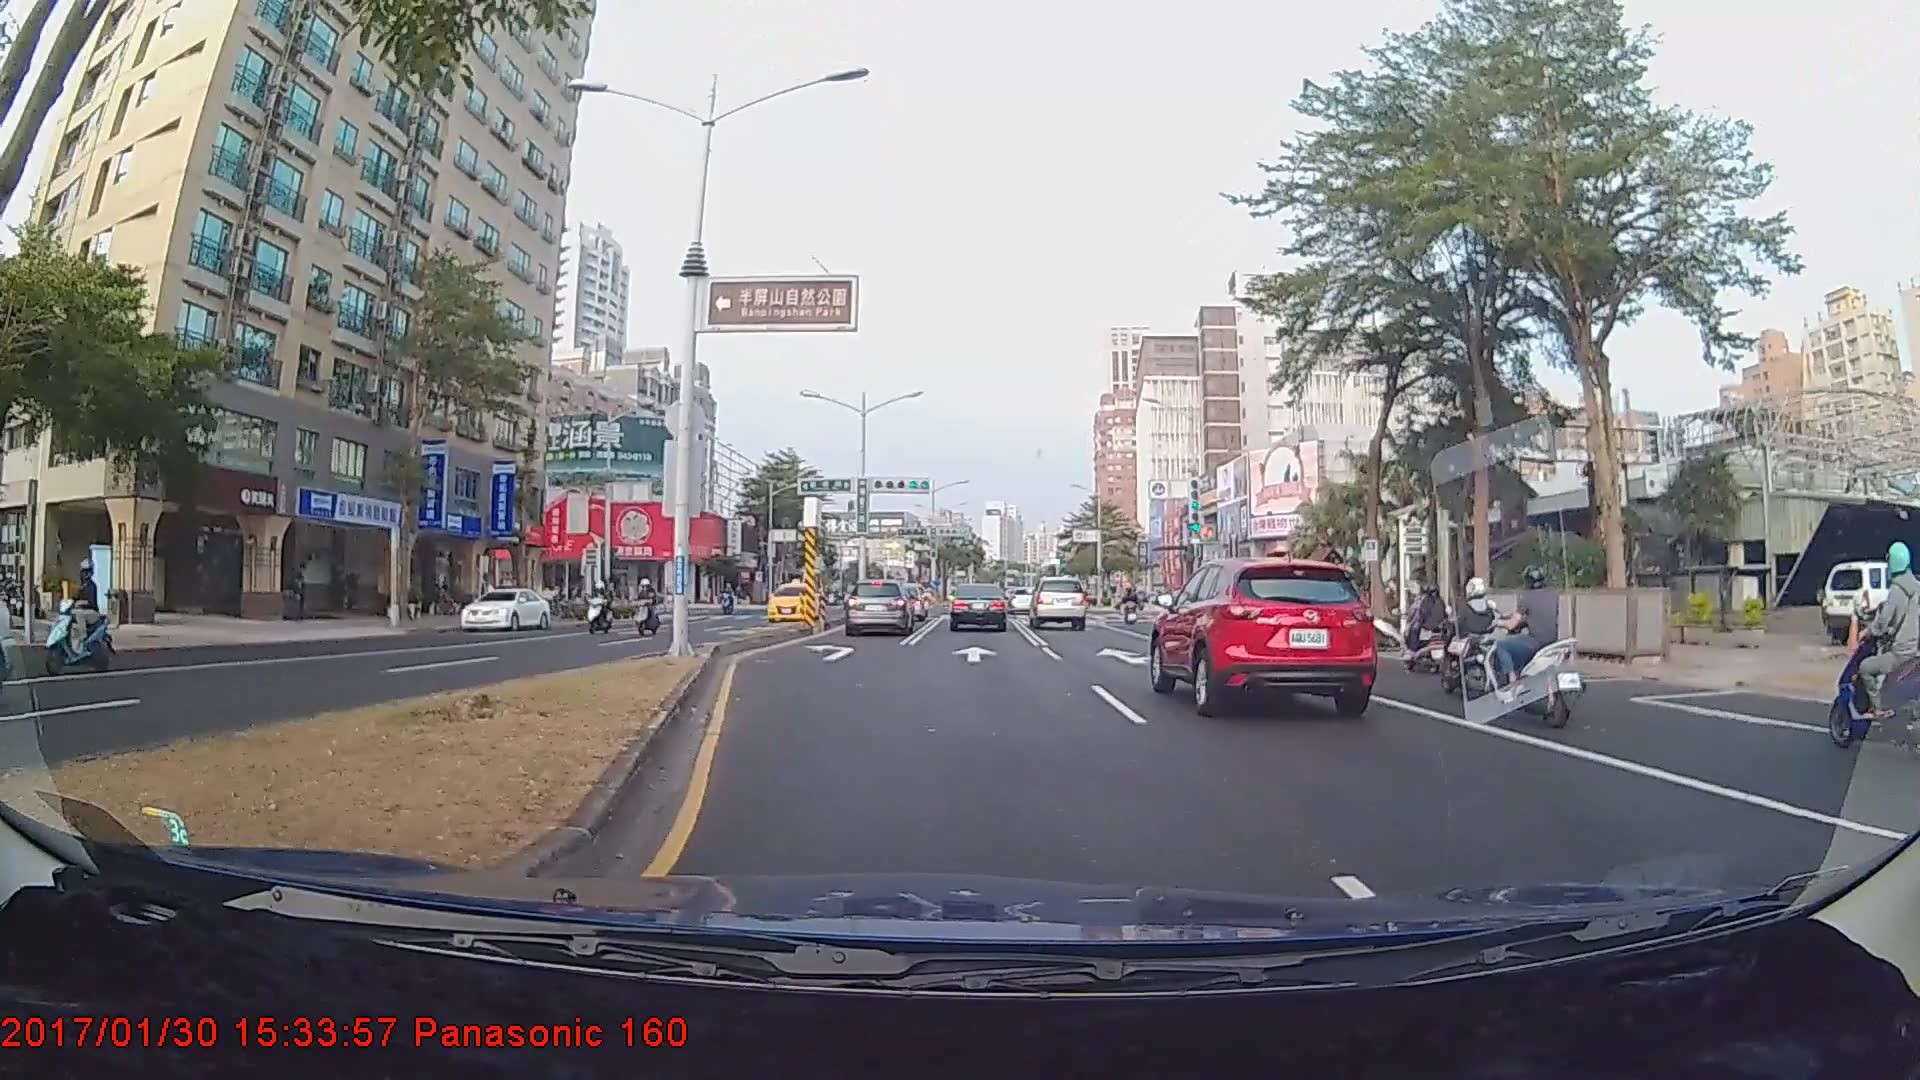rider: (1486, 565, 1597, 729), (1436, 569, 1511, 693), (46, 558, 117, 676), (1397, 576, 1456, 673), (581, 576, 619, 640), (630, 578, 666, 638)
vehicle: (1150, 555, 1377, 713), (1818, 563, 1920, 642), (459, 585, 552, 634), (842, 579, 917, 637), (1029, 575, 1088, 631), (949, 582, 1007, 633), (764, 583, 821, 621)
